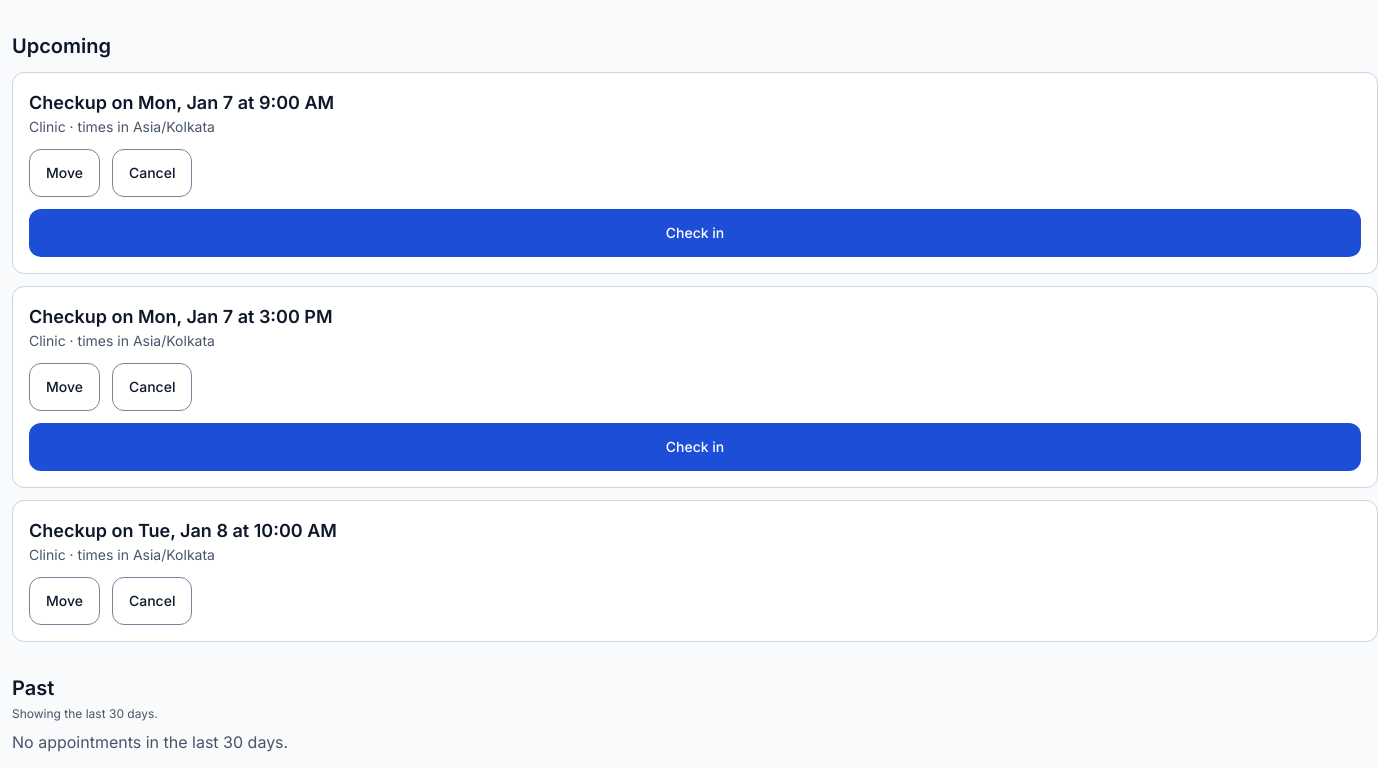
Scenario: Check in › not_booked refreshes the list, and the words stay after the appointment leaves it
Click the button named "Check in Checkup on Mon, Jan 7 at 3:00 PM". click: {"x": 695, "y": 447}
box: [29, 423, 1361, 471]
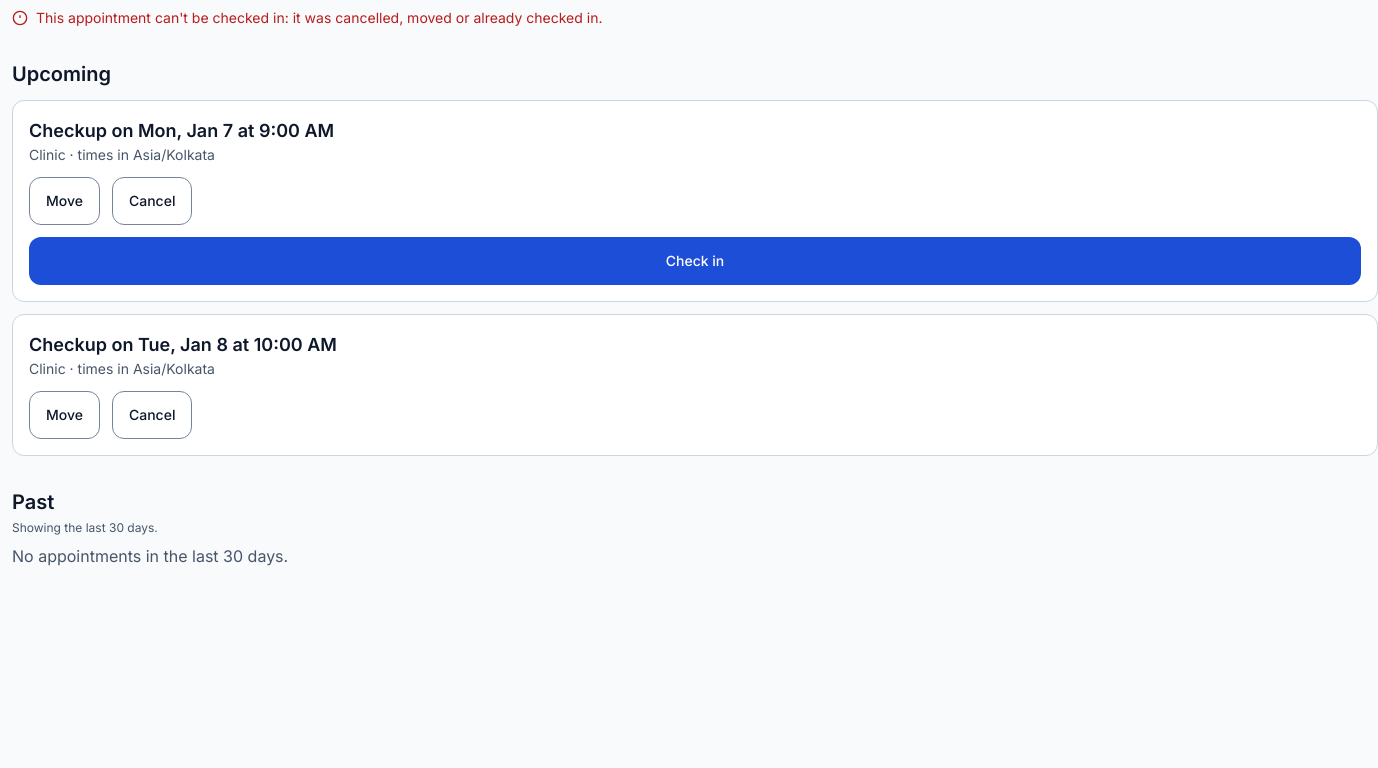
Check: the button "Check in Checkup on Mon, Jan 7 at 3:00 PM" is not shown
Check: the message is shown, box [12, 9, 602, 26]
Check: the message shows "This appointment can't be checked in: it was cancelled, moved or already checked in.", box [36, 9, 602, 26]
